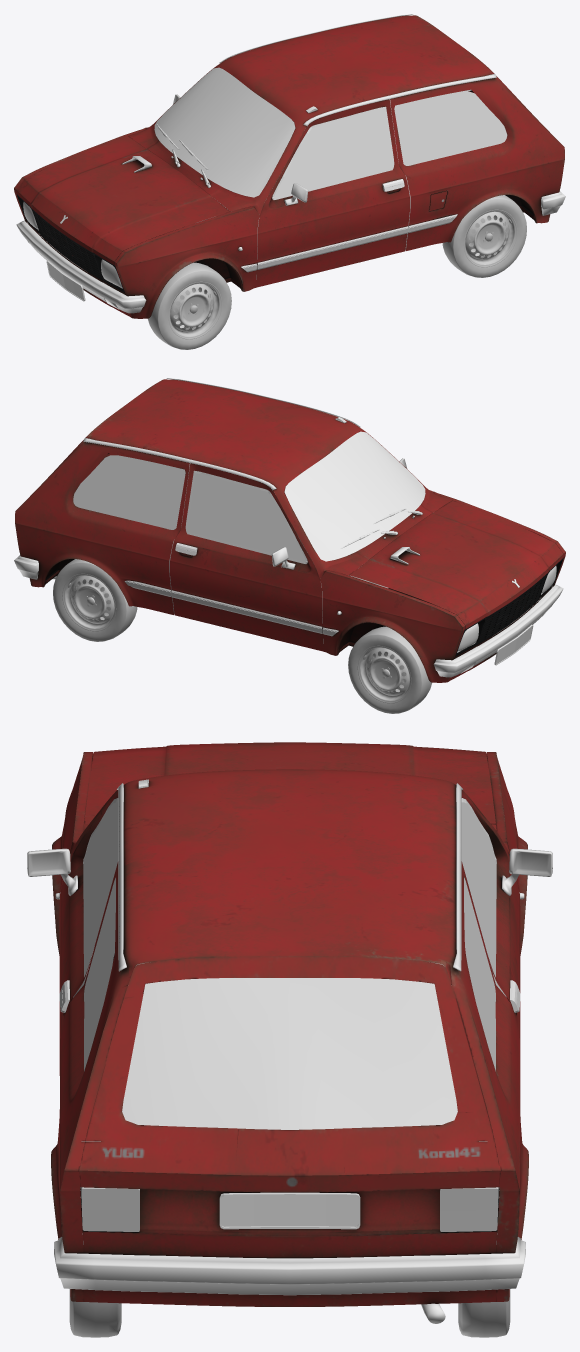
Rendered from Yugo1.fbx.
3 views of the same model, one above another, from view 1: azimuth 30°, elevation 25°; view 2: azimuth 150°, elevation 25°; view 3: azimuth 270°, elevation 25° (orthographic). The views are drawn at different scales.
Visible parts, largest first — view 1: Karoserija, Šajba, Gume, Detalji, ProzorNaprijedLijevo, ProzorNazadLijevo, Detalji.001; view 2: Karoserija, Šajba, Gume, Detalji, ProzorNaprijedDesno, ProzorNazadDesno, Detalji.001; view 3: Karoserija, StražnjiProzor, Detalji, Detalji.002, ProzorNaprijedLijevo, ProzorNaprijedDesno, Gume, ProzorNazadLijevo, ProzorNazadDesno.
Boxes of the visible parts, x1=… form: Karoserija: x1=14, y1=15, x2=564, y2=318; Šajba: x1=154, y1=67, x2=295, y2=197; Gume: x1=148, y1=195, x2=526, y2=349; Detalji: x1=16, y1=14, x2=565, y2=313; ProzorNaprijedLijevo: x1=272, y1=106, x2=394, y2=199; ProzorNazadLijevo: x1=394, y1=89, x2=507, y2=165; Detalji.001: x1=23, y1=202, x2=122, y2=288; Karoserija: x1=15, y1=379, x2=565, y2=682; Šajba: x1=284, y1=431, x2=425, y2=561; Gume: x1=53, y1=559, x2=431, y2=713; Detalji: x1=14, y1=378, x2=563, y2=677; ProzorNaprijedDesno: x1=185, y1=470, x2=307, y2=563; ProzorNazadDesno: x1=73, y1=455, x2=185, y2=529; Detalji.001: x1=457, y1=566, x2=556, y2=652; Karoserija: x1=51, y1=742, x2=528, y2=1306; StražnjiProzor: x1=122, y1=978, x2=457, y2=1129; Detalji: x1=27, y1=779, x2=552, y2=1323; Detalji.002: x1=81, y1=1187, x2=498, y2=1231; ProzorNaprijedLijevo: x1=83, y1=798, x2=118, y2=977; ProzorNaprijedDesno: x1=461, y1=798, x2=496, y2=977; Gume: x1=69, y1=1289, x2=510, y2=1337; ProzorNazadLijevo: x1=84, y1=877, x2=115, y2=1071; ProzorNazadDesno: x1=464, y1=877, x2=495, y2=1071.
Bounding box in the file's own units: 335579 × 140911 × 167811.
